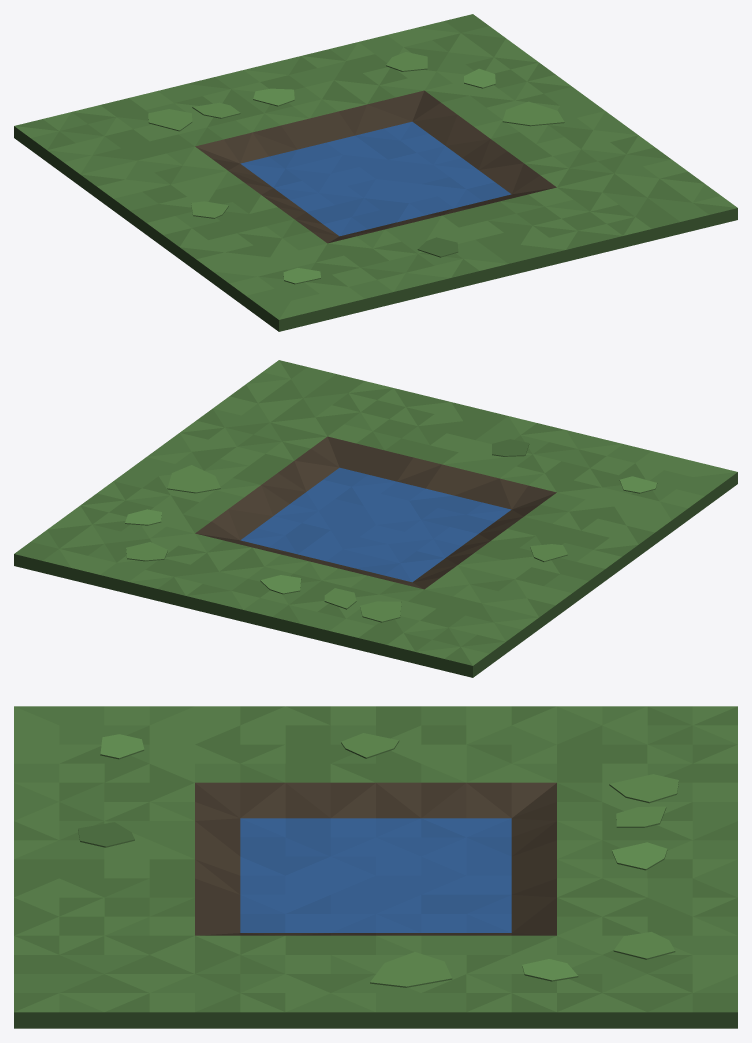
Rendered from river_pool_grass.glb.
3 renders of one model, top to bottom at view 1: azimuth 30°, elevation 25°; view 2: azimuth 150°, elevation 25°; view 3: azimuth 270°, elevation 25°, orthographic. The views are drawn at different scales.
Visible parts, largest first — view 1: river_pool_grass; view 2: river_pool_grass; view 3: river_pool_grass.
Boxes of the visible parts, x1=… form: river_pool_grass: x1=14, y1=14, x2=737, y2=331; river_pool_grass: x1=14, y1=360, x2=737, y2=677; river_pool_grass: x1=14, y1=706, x2=737, y2=1028.
Size of the model in its own units: 4 by 0.108 by 4.
